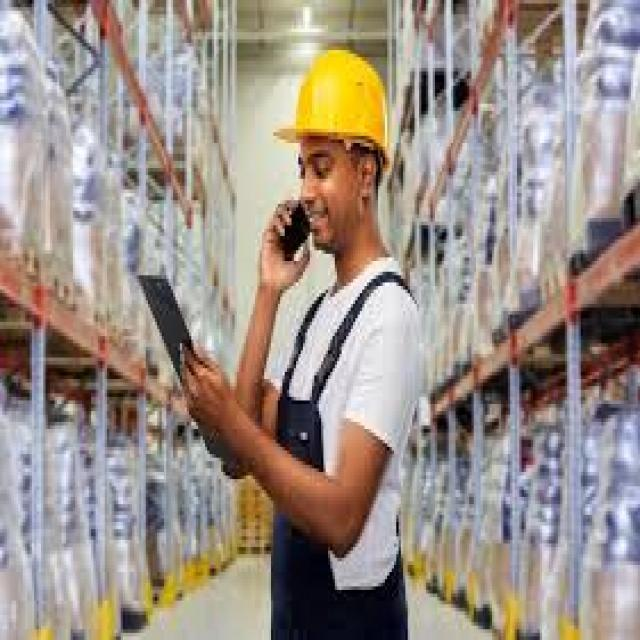reflective_jacket: (245, 257, 435, 611)
safety_helmet: (269, 43, 401, 179)
